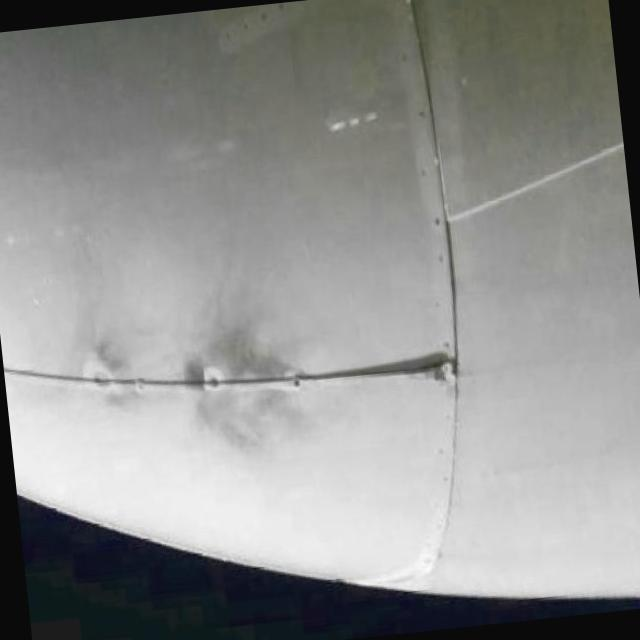crack: (303, 353, 457, 385)
